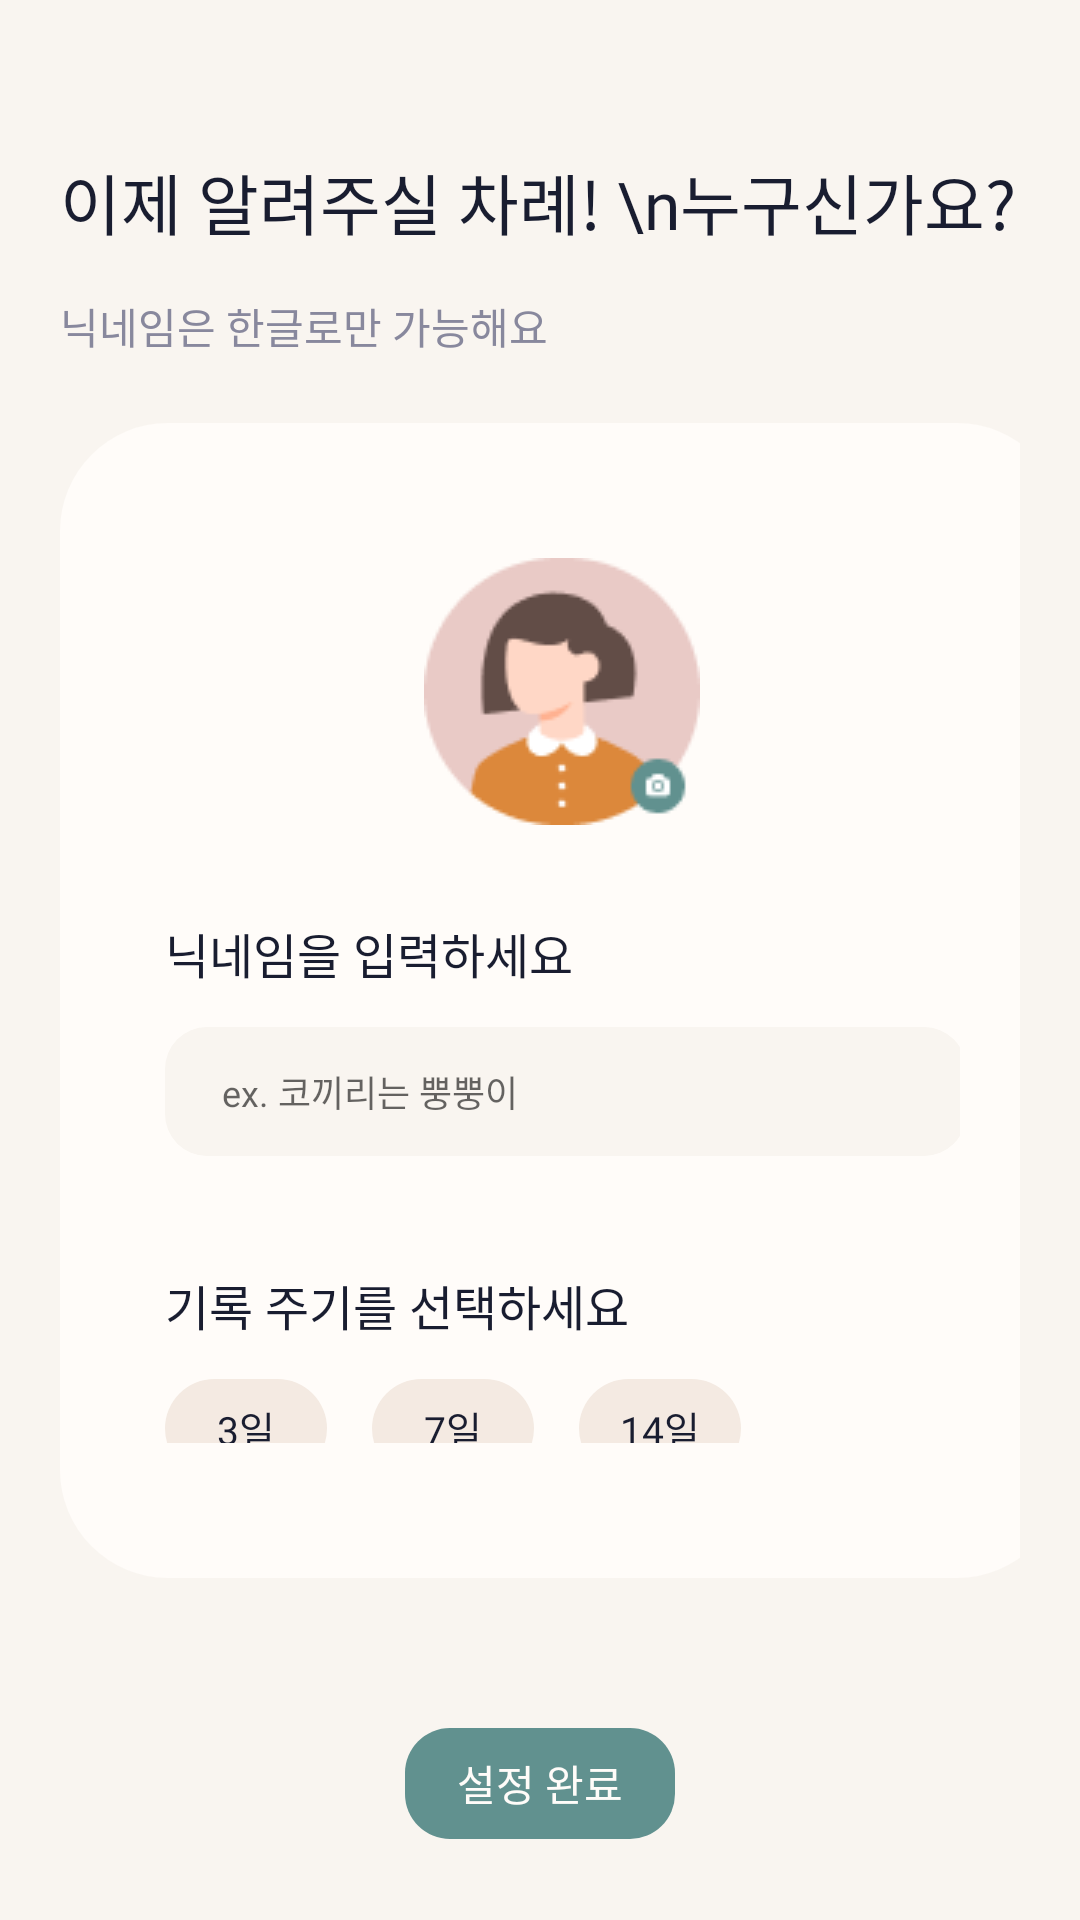

Icon bounding boxes for this 1080w x 1920h phone screenshot, format [x1,y1,x2,y2]:
profile: [424,558,700,825]
